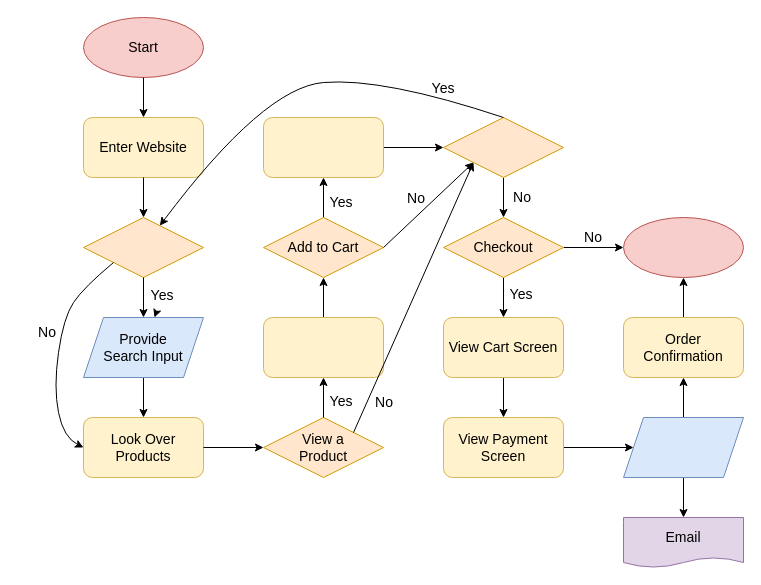
Some shapes in this 761 by 585 pixel diagram are drawn without their labels. Each missing label, with the box of its shape:
Add to Cart Confirmation: (262, 116, 384, 178)
Continue Shopping: (442, 116, 564, 178)
Leave: (622, 216, 744, 278)
Open Product Webpage: (262, 316, 384, 378)
Payment Information: (622, 416, 744, 478)
Search Products: (82, 216, 204, 278)
